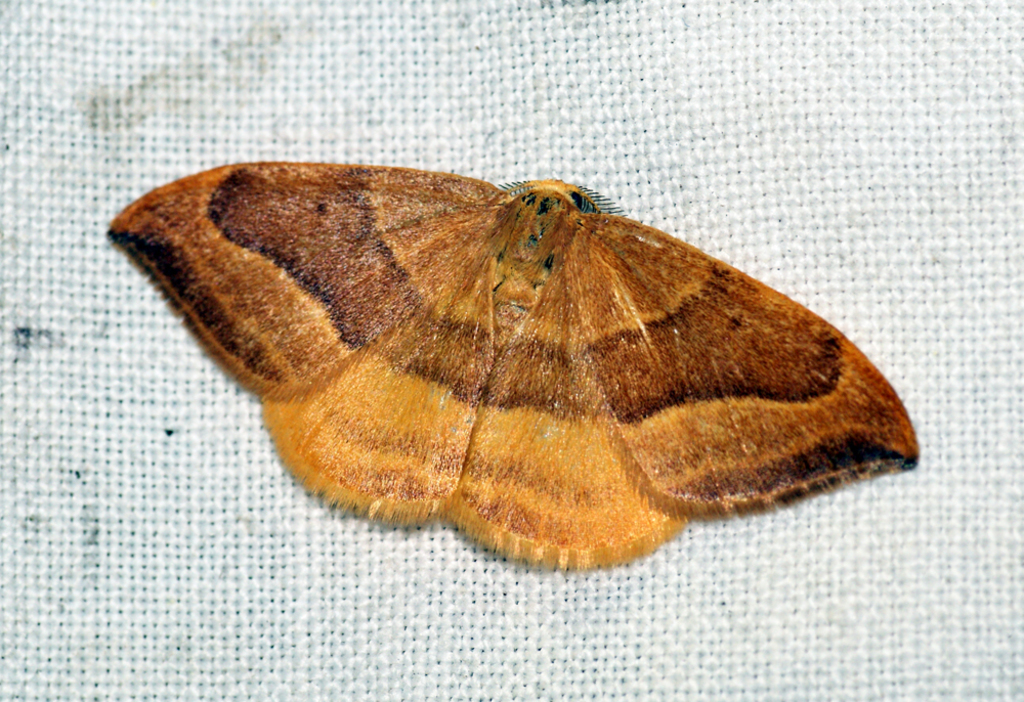Butterfly: (98, 114, 944, 605)
